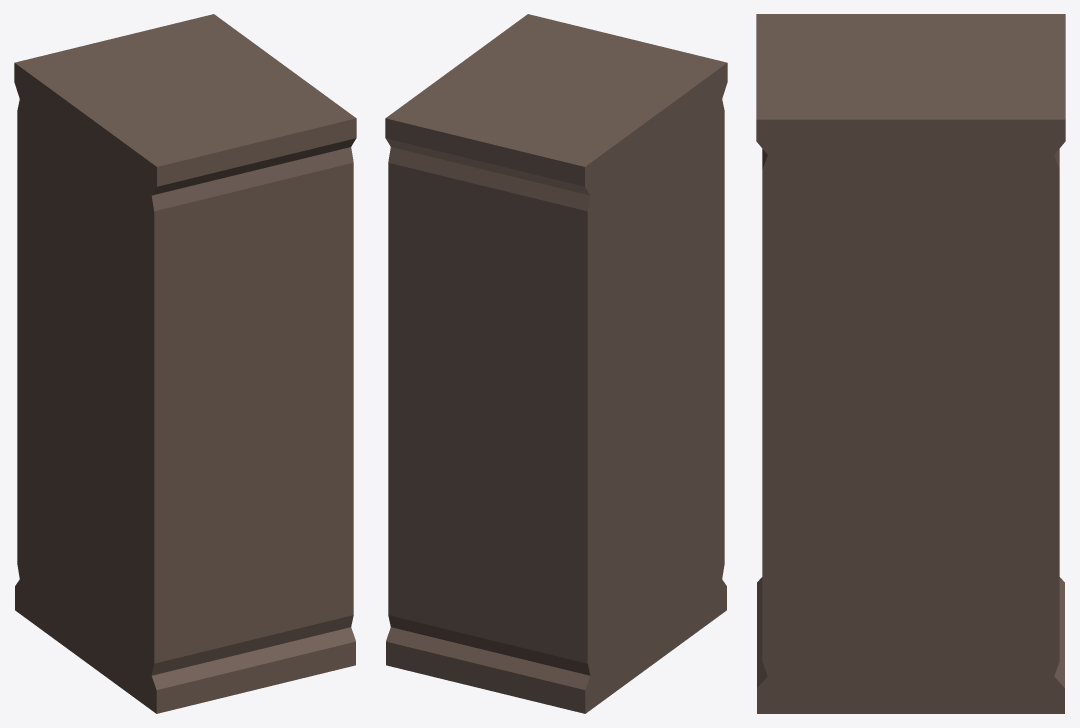
The model's file is stone_wall_block.fbx.
3 views of the same model, side by side, from view 1: azimuth 30°, elevation 25°; view 2: azimuth 150°, elevation 25°; view 3: azimuth 270°, elevation 25° (orthographic). The views are drawn at different scales.
Parts seen in each view (by area): view 1: pCube705; view 2: pCube705; view 3: pCube705.
Part boxes in pixels (<box>): pCube705: <box>14,14,356,713</box>; pCube705: <box>385,14,727,713</box>; pCube705: <box>756,14,1065,713</box>.
Size of the model in its own units: 13.75 by 36.03 by 17.01.
